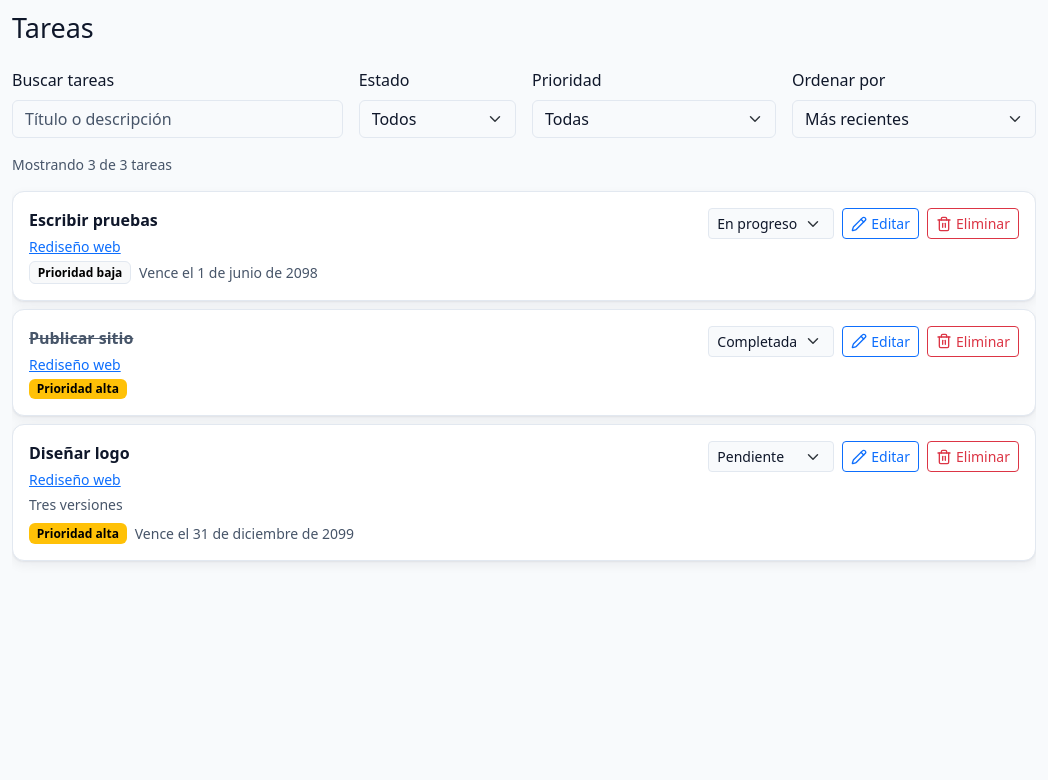
Scenario: PaginaTareas › sin coincidencias ofrece limpiar los filtros
Type "zzz" into the search field labelled "Buscar tareas" at point(177, 119), box top-left (12, 100), bottom-right (343, 138)
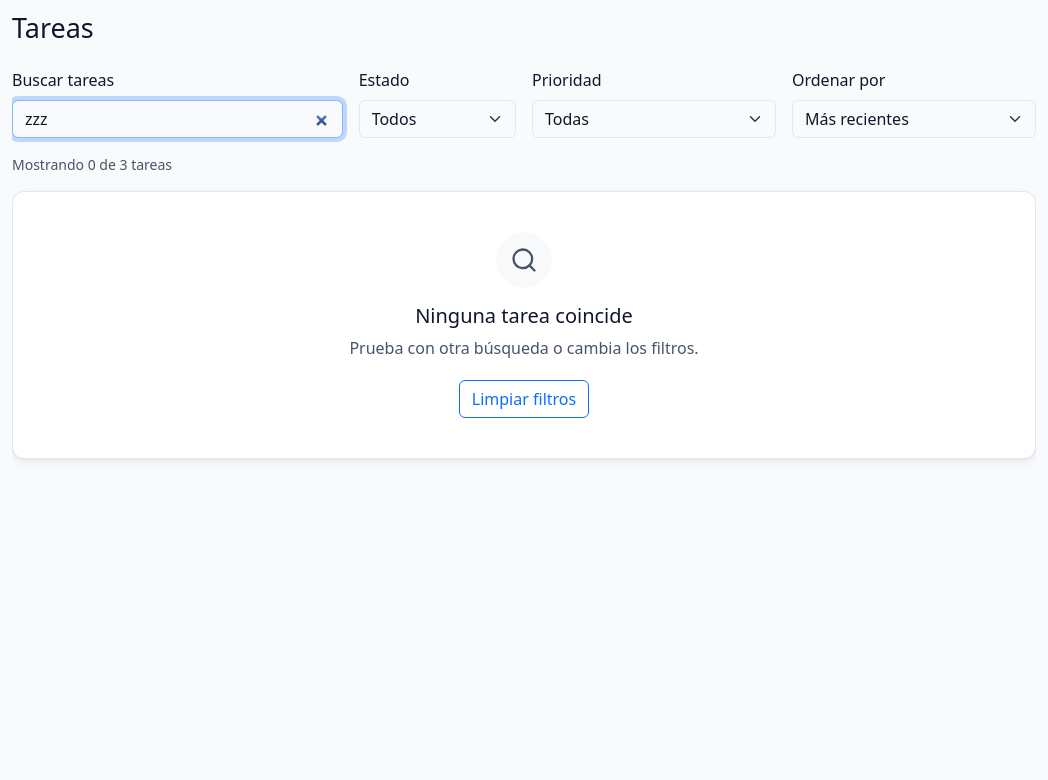
Expected: the heading "Ninguna tarea coincide" is shown, top-left (415, 302), bottom-right (633, 329)
Click the button "Limpiar filtros" at point(524, 399), box top-left (459, 380), bottom-right (589, 418)
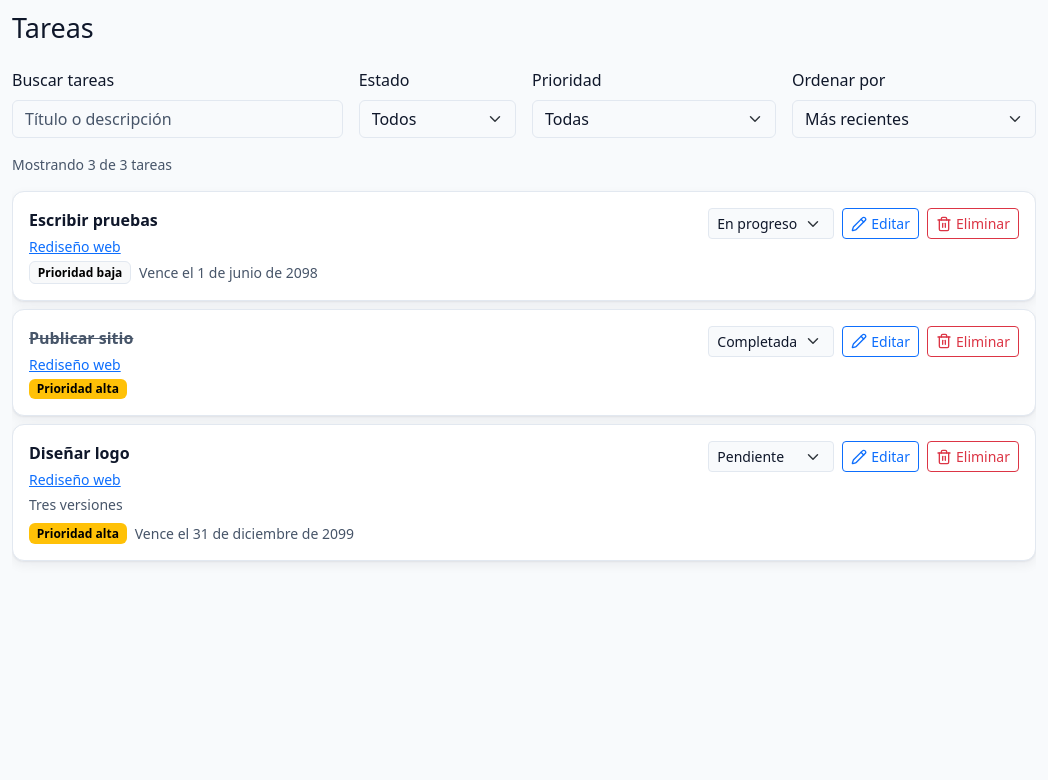
Expected: the search field labelled "Buscar tareas" is empty, top-left (12, 100), bottom-right (343, 138)
